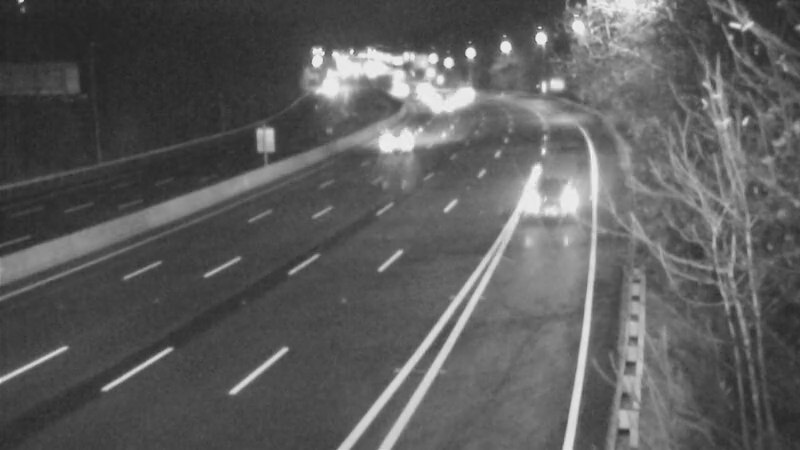vehicle: (514, 167, 594, 247), (377, 65, 427, 115), (447, 69, 497, 119), (412, 77, 462, 127), (365, 117, 415, 167)
